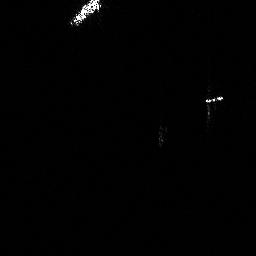ship: (67, 1, 104, 27), (202, 94, 225, 104)
